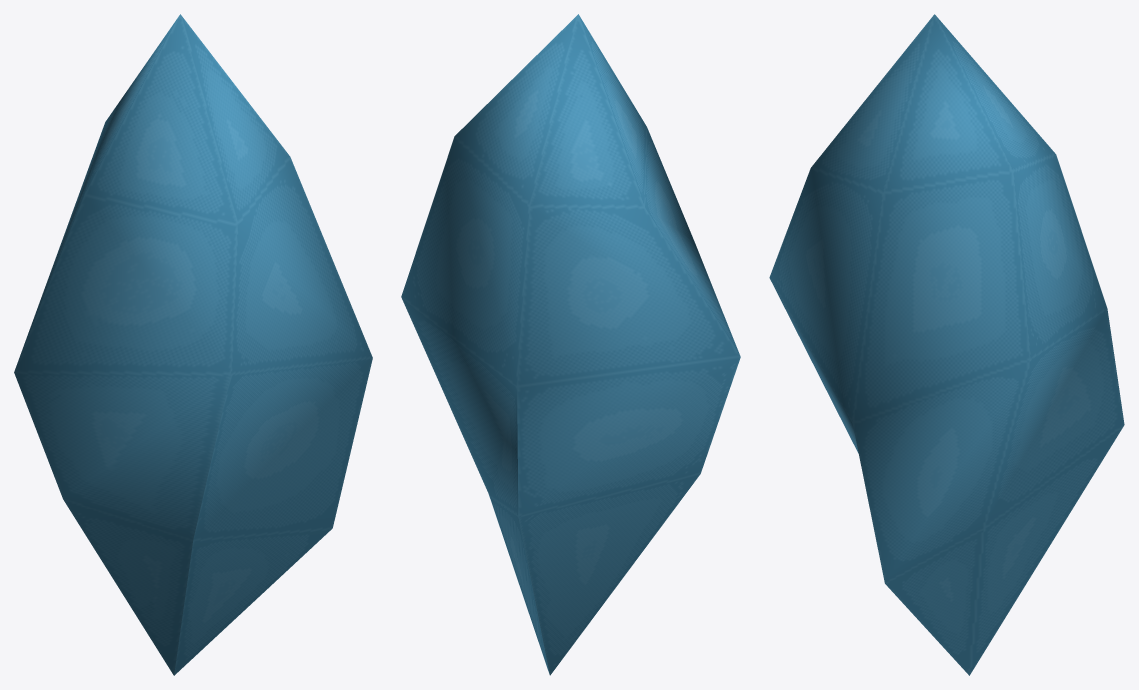
Rendered from mcguffin rock.fbx.
3 views of the same model, side by side, from view 1: azimuth 30°, elevation 25°; view 2: azimuth 150°, elevation 25°; view 3: azimuth 270°, elevation 25° (orthographic). The views are drawn at different scales.
Visible parts, largest first — view 1: pCone1; view 2: pCone1; view 3: pCone1.
Part boxes in pixels (<box>): pCone1: <box>14,14,372,675</box>; pCone1: <box>401,14,740,675</box>; pCone1: <box>769,14,1124,675</box>.
Bounding box in the file's own units: 0.2657 × 0.5418 × 0.2656.
1 material, 1 textured.
